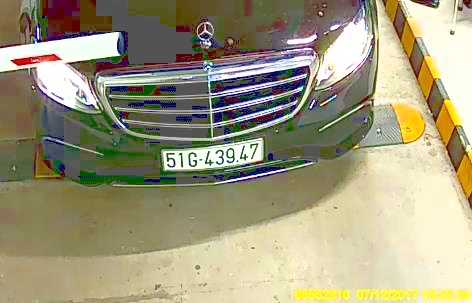plate: (158, 139, 270, 175)
